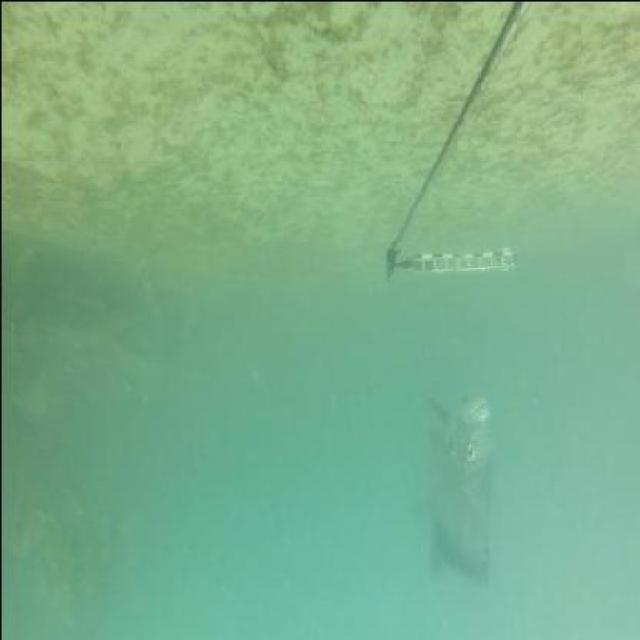acanthopagrus_palmaris: (420, 385, 494, 583)
